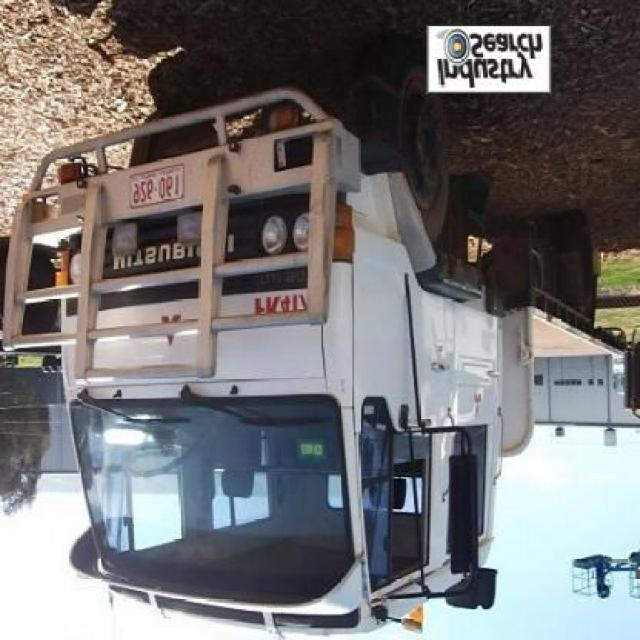truck: (1, 83, 616, 640)
